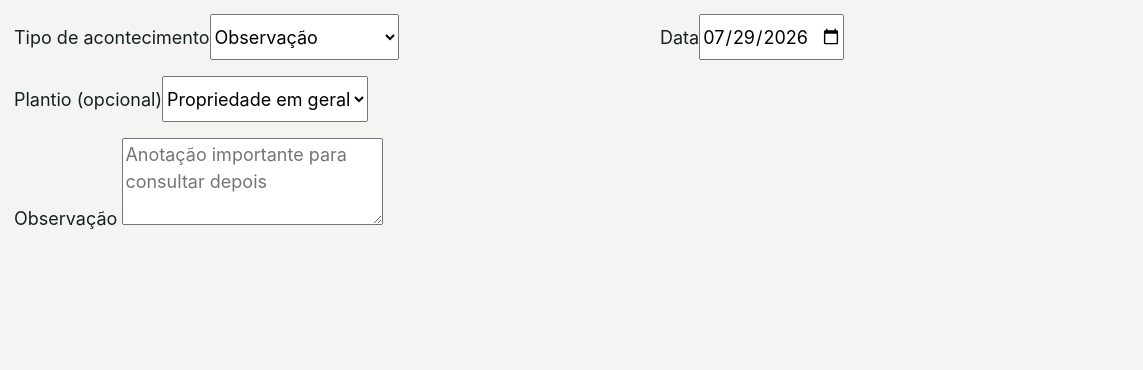
it: DynamicDiaryFields › mostra quantidade, preço e comprador para venda da produção
The image size is (1143, 370).
Select "Venda da produção" in the dropdown labelled "Tipo de acontecimento" at [304, 37], box left=210, top=14, right=398, bottom=60
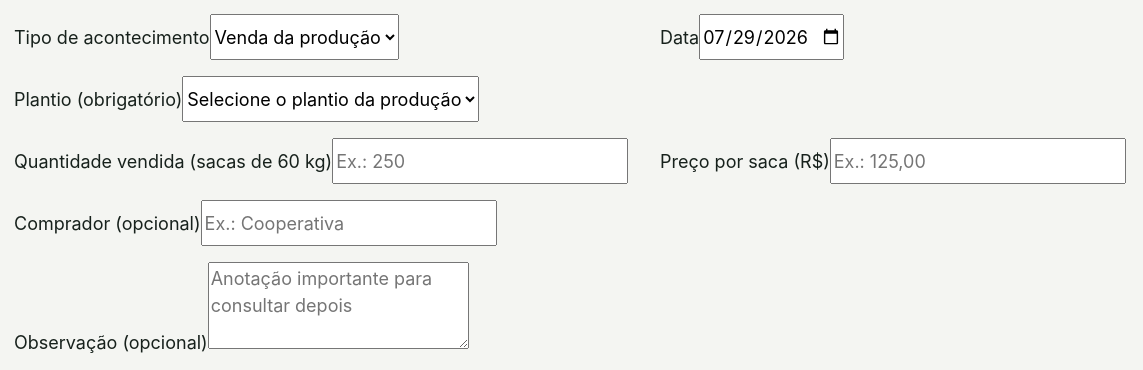
expect the dropdown labelled "Plantio (obrigatório)" is shown: met, box left=182, top=76, right=479, bottom=122
expect the field labelled "Comprador (opcional)" is shown: met, box left=201, top=200, right=497, bottom=246
